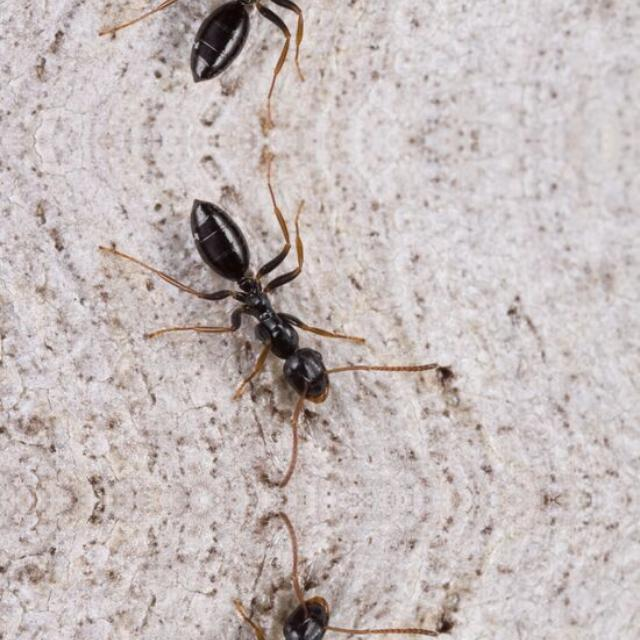Colobopsis: (130, 165, 394, 433), (129, 0, 392, 114), (130, 566, 392, 640)
